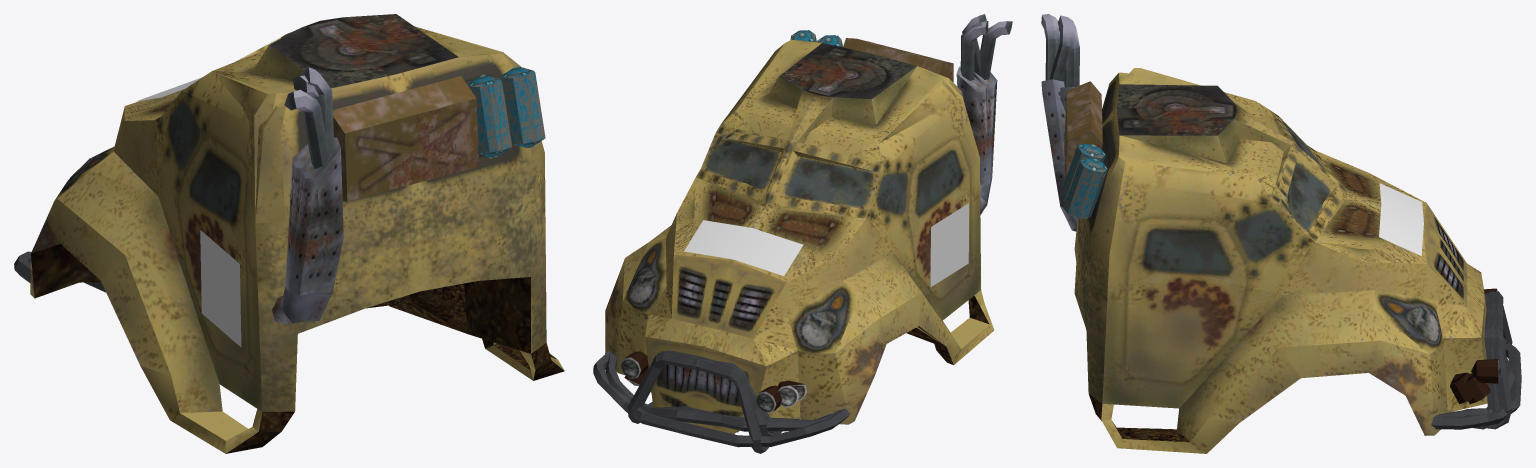
The model's file is cab03.fbx.
3 views of the same model, side by side, from view 1: azimuth 30°, elevation 25°; view 2: azimuth 150°, elevation 25°; view 3: azimuth 270°, elevation 25° (orthographic). The views are drawn at different scales.
Visible parts, largest first — view 1: polySurface55_1, polySurface53_1, polySurface49_1, polySurface61_1, polySurface60_2, polySurface49_2, polySurface60_3, LOGO_1, polySurface55_2, polySurface60_1, polySurface61_2; view 2: polySurface55_1, polySurface59_1, polySurface49_1, polySurface53_1, polySurface49_2, polySurface52_1, LOGO_1, polySurface58_1, polySurface55_2, polySurface60_1, polySurface52_3, polySurface58_2 (+7 smaller); view 3: polySurface53_1, polySurface52_1, polySurface53_3, polySurface59_1, polySurface55_1, polySurface61_1, polySurface58_1, polySurface60_3, polySurface52_3, LOGO_1, polySurface49_2, polySurface58_2 (+5 smaller).
Part boxes in pixels (x1,y1,x2,y2): polySurface55_1: (155, 21, 419, 453); polySurface53_1: (320, 14, 564, 380); polySurface49_1: (30, 100, 222, 419); polySurface61_1: (333, 66, 545, 201); polySurface60_2: (284, 89, 340, 295); polySurface49_2: (34, 89, 183, 298); polySurface60_3: (272, 67, 343, 322); LOGO_1: (136, 77, 241, 347); polySurface55_2: (212, 38, 296, 219); polySurface60_1: (272, 75, 318, 323); polySurface61_2: (367, 75, 500, 158); polySurface55_1: (767, 53, 994, 364); polySurface59_1: (620, 254, 800, 433); polySurface49_1: (733, 204, 961, 424); polySurface53_1: (696, 39, 870, 207); polySurface49_2: (752, 208, 941, 343); polySurface52_1: (605, 178, 732, 374); LOGO_1: (684, 203, 968, 286); polySurface58_1: (593, 351, 850, 453); polySurface55_2: (799, 66, 979, 155); polySurface60_1: (956, 21, 991, 211); polySurface52_3: (674, 177, 765, 254); polySurface58_2: (605, 350, 833, 433); polySurface53_1: (1074, 110, 1348, 453); polySurface52_1: (1177, 207, 1447, 453); polySurface53_3: (1110, 145, 1298, 406); polySurface59_1: (1423, 203, 1501, 412); polySurface55_1: (1074, 72, 1343, 260); polySurface61_1: (1061, 81, 1107, 218); polySurface58_1: (1431, 291, 1521, 429); polySurface60_3: (1041, 15, 1077, 231); polySurface52_3: (1315, 195, 1426, 263); LOGO_1: (1379, 183, 1423, 255); polySurface49_2: (1315, 150, 1426, 206); polySurface58_2: (1434, 291, 1515, 429).
Bounding box in the file's own units: 2.67 × 2.86 × 3.74.
